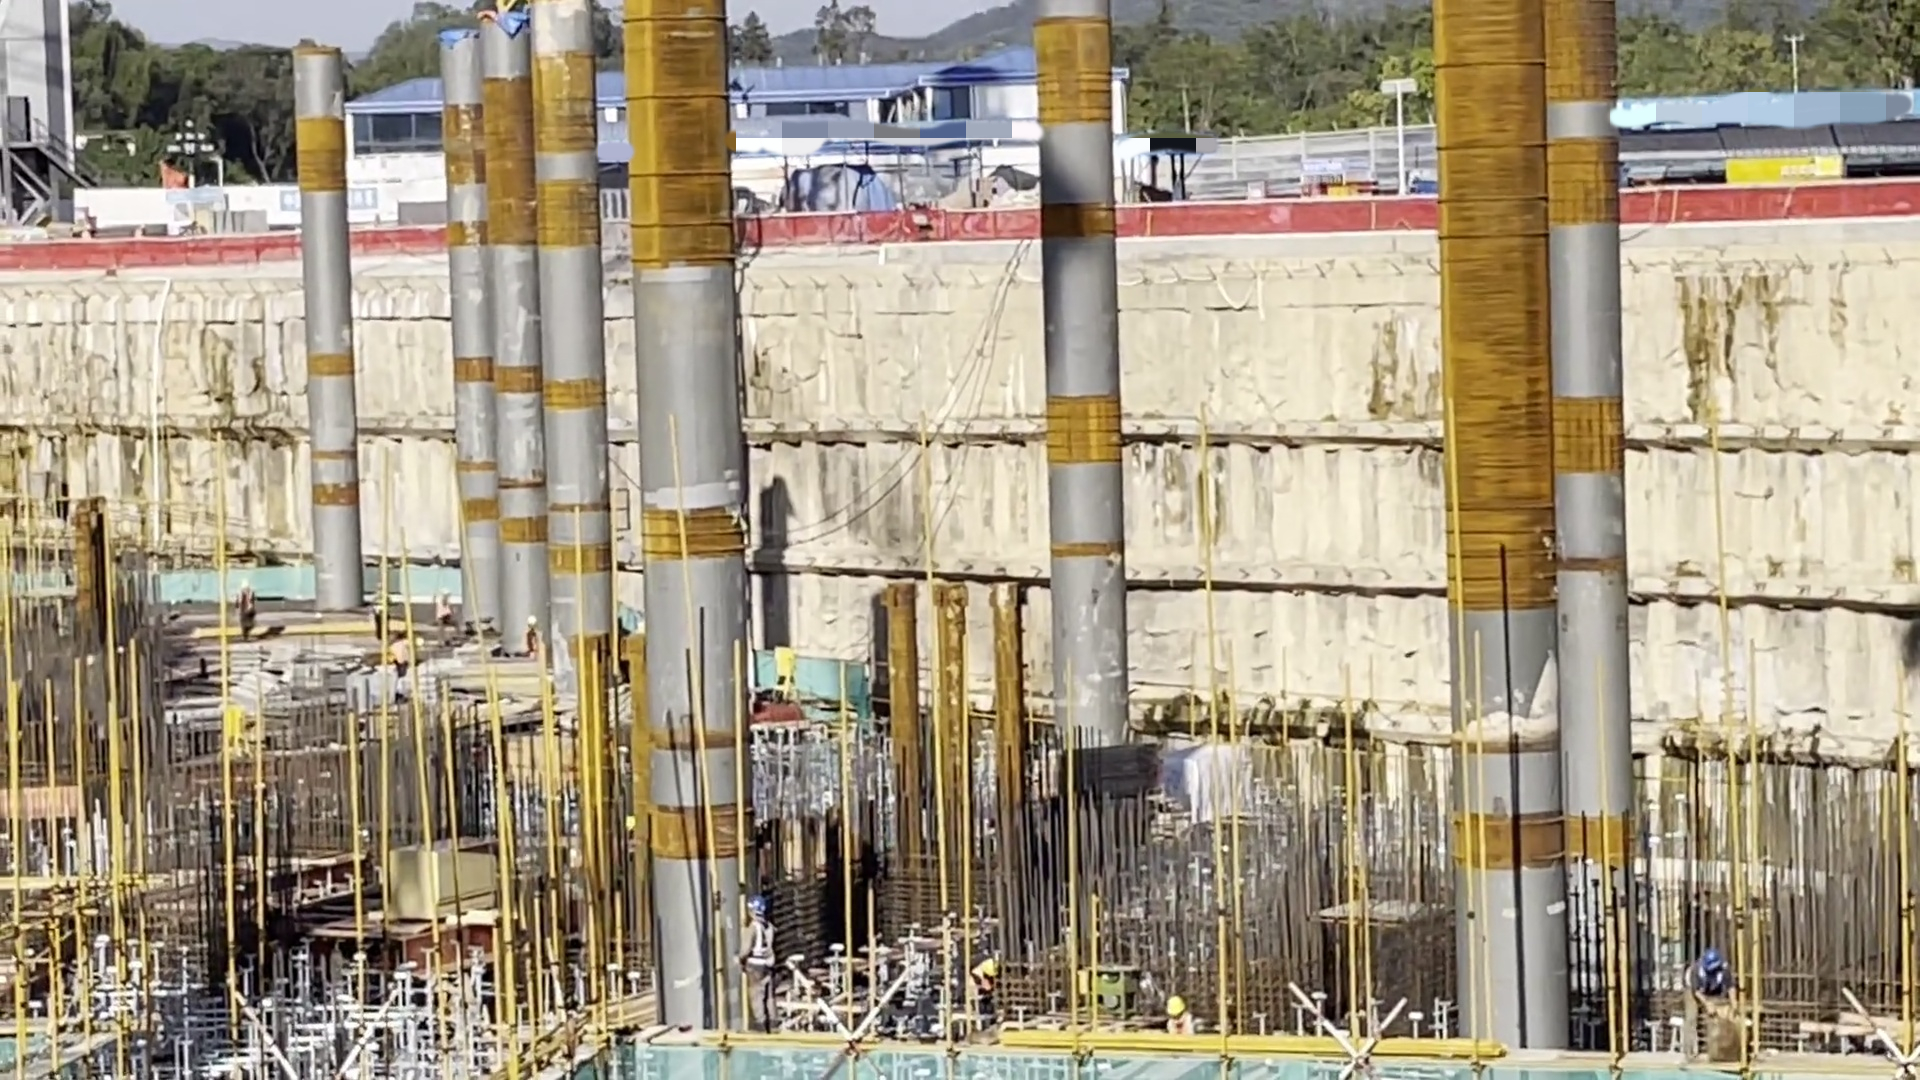board: (386, 837, 513, 922)
ebox: (771, 641, 824, 679), (233, 706, 246, 736)
fence: (1121, 194, 1436, 237), (1631, 179, 1920, 224), (748, 209, 1056, 247), (4, 229, 309, 267), (354, 227, 473, 266)
helmet: (1703, 951, 1721, 975), (1169, 995, 1185, 1020), (749, 897, 771, 915), (984, 955, 997, 975), (524, 610, 537, 625), (441, 586, 452, 597), (377, 583, 389, 594), (237, 580, 250, 590)
person: (1684, 940, 1733, 1043), (743, 891, 779, 1010), (228, 573, 258, 647), (974, 945, 1003, 1012), (1161, 992, 1189, 1046), (365, 575, 388, 633), (437, 585, 456, 629), (523, 613, 543, 656)
vest: (1686, 966, 1729, 997), (750, 923, 777, 965), (969, 968, 988, 999), (1167, 1014, 1193, 1033), (431, 596, 453, 617), (236, 591, 255, 615), (371, 599, 395, 615), (520, 634, 540, 651)
